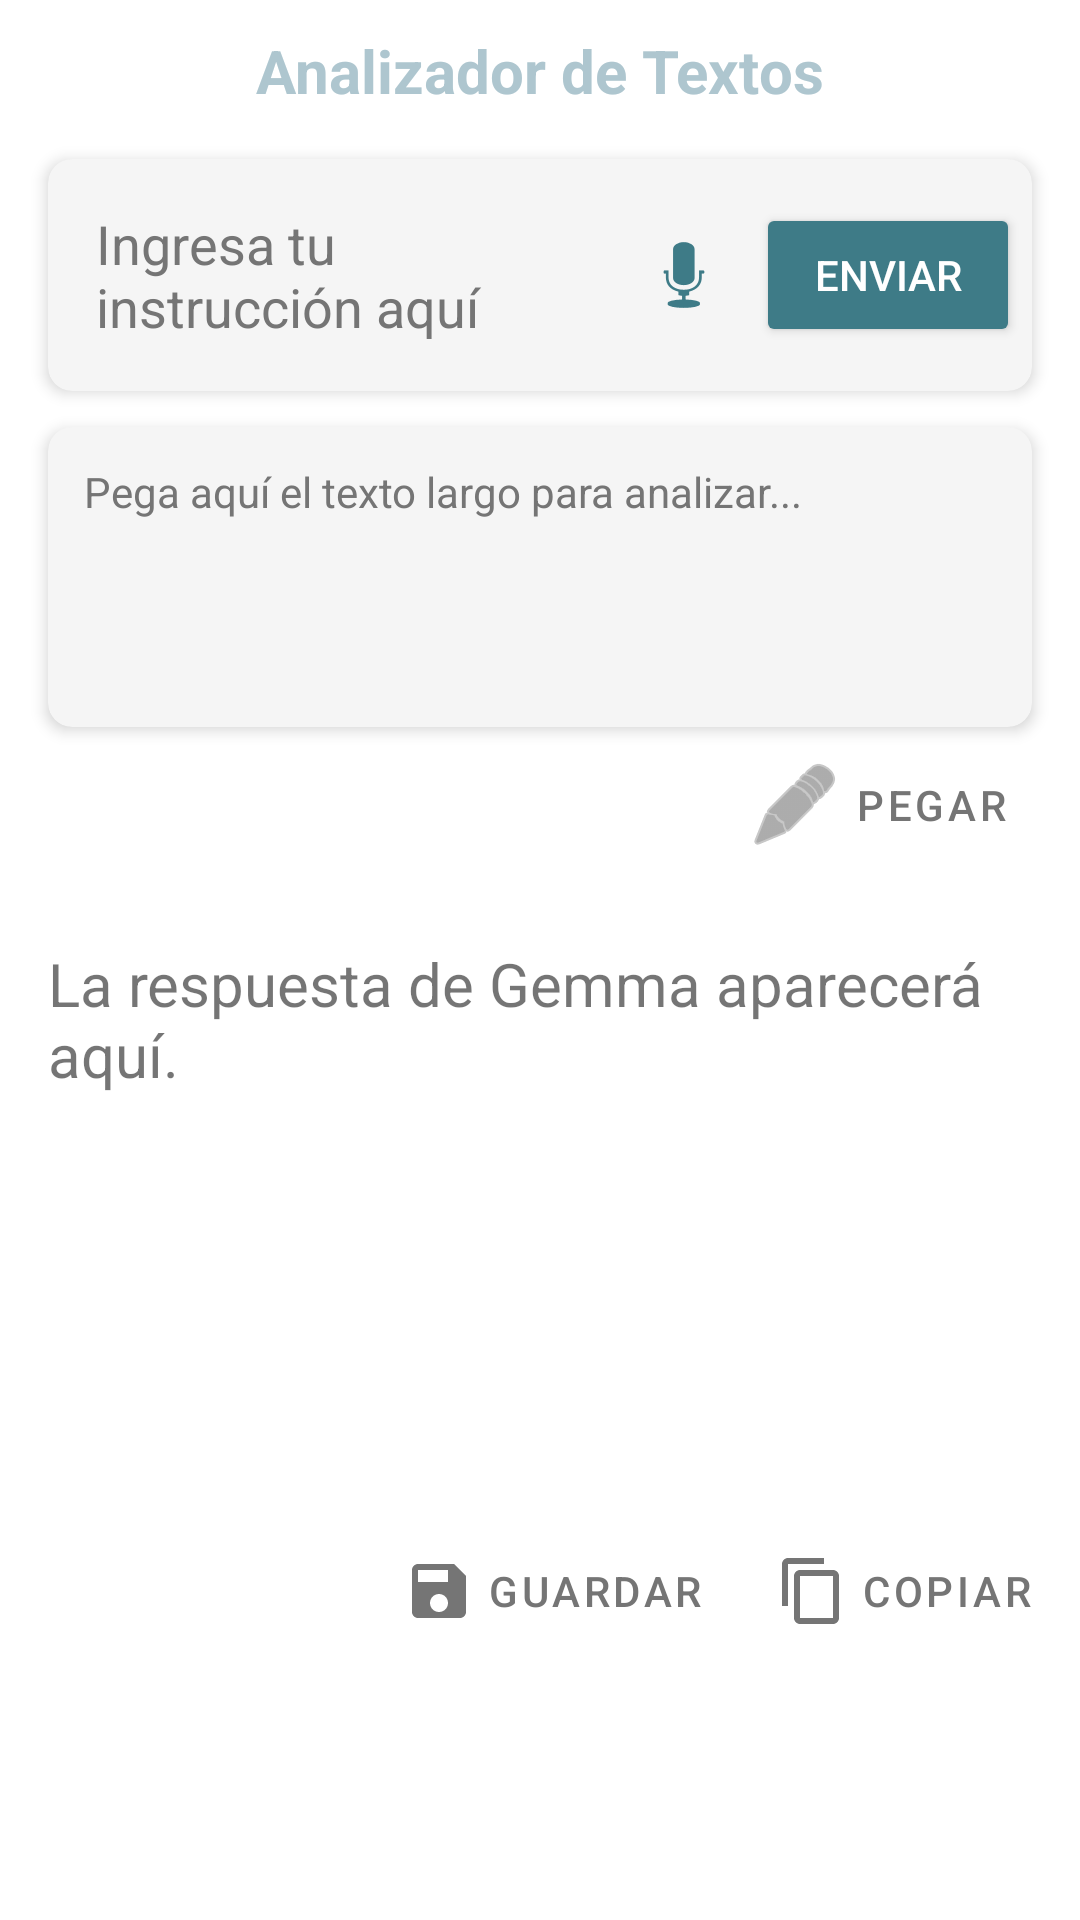

Where icons sit on this 1080px x 1920px app screen, as [left=x1, top=y1, right=x2, bottom=y2]:
Dictado por voz: [left=663, top=242, right=705, bottom=308]
